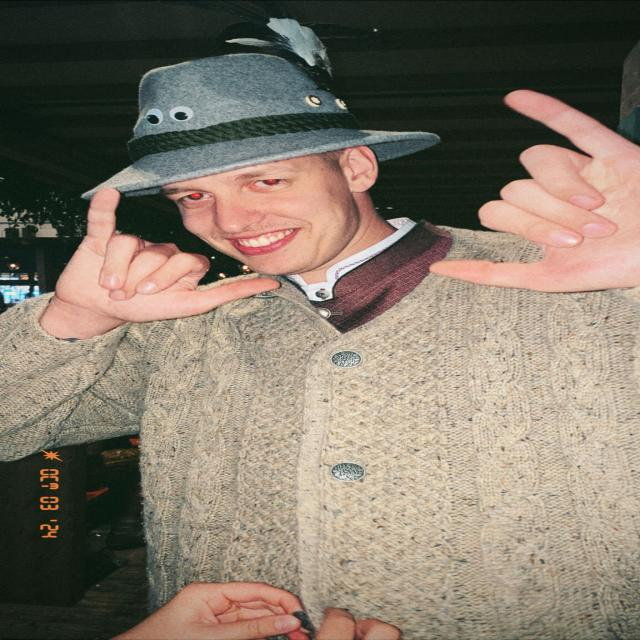JeremiasDiaz: (136, 131, 414, 280)
